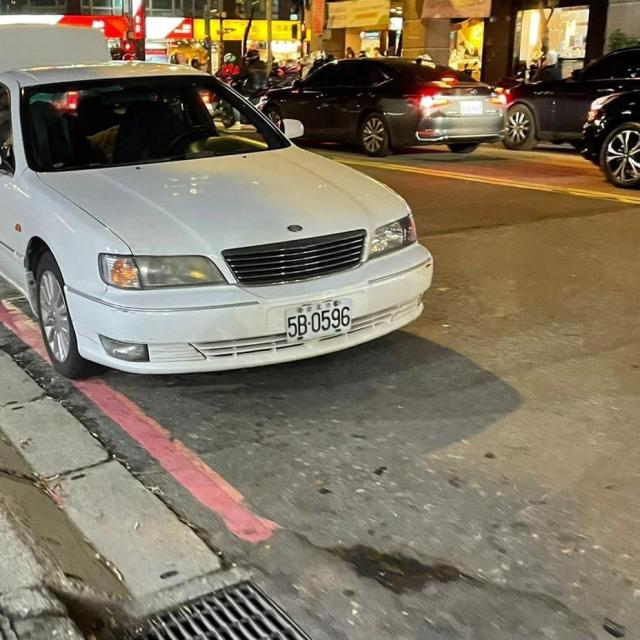W: (279, 292, 358, 347)
